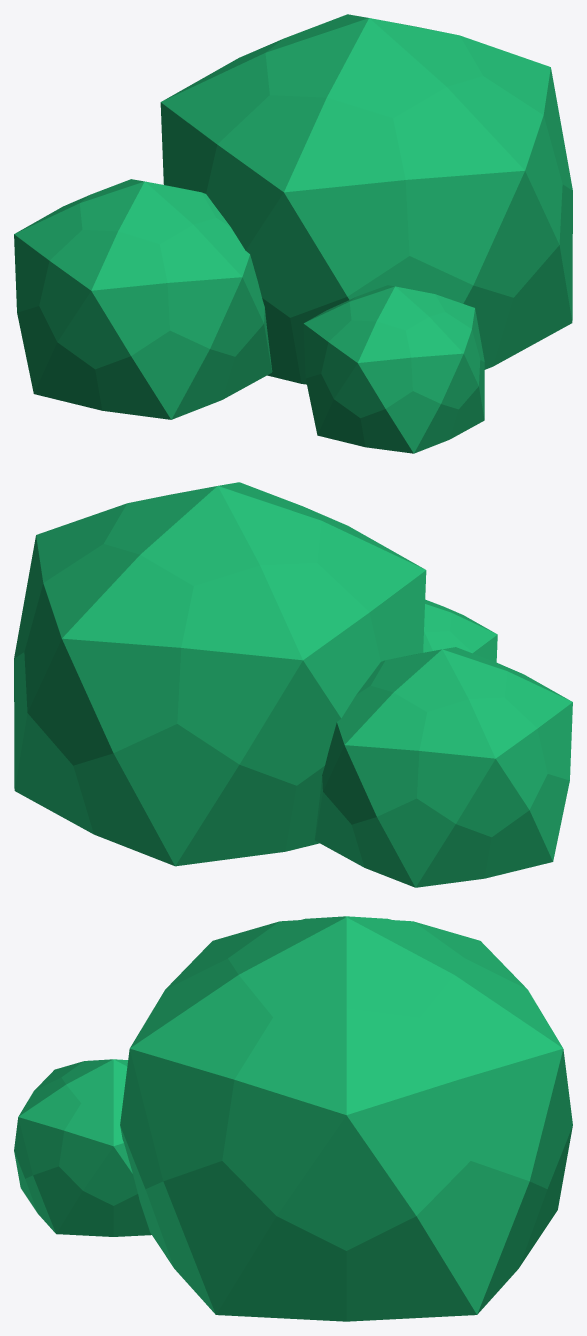
File: bush.fbx
The picture shows the model from 3 angles, top to bottom: view 1: azimuth 30°, elevation 25°; view 2: azimuth 150°, elevation 25°; view 3: azimuth 270°, elevation 25°; orthographic projection. The views are drawn at different scales.
Visible parts, largest first — view 1: bush; view 2: bush; view 3: bush.
Boxes of the visible parts, x1,y1,x2,y2 form: bush: (14, 14, 572, 453); bush: (14, 482, 572, 887); bush: (14, 916, 572, 1321).
Bounding box in the file's own units: 534 × 309 × 459.
